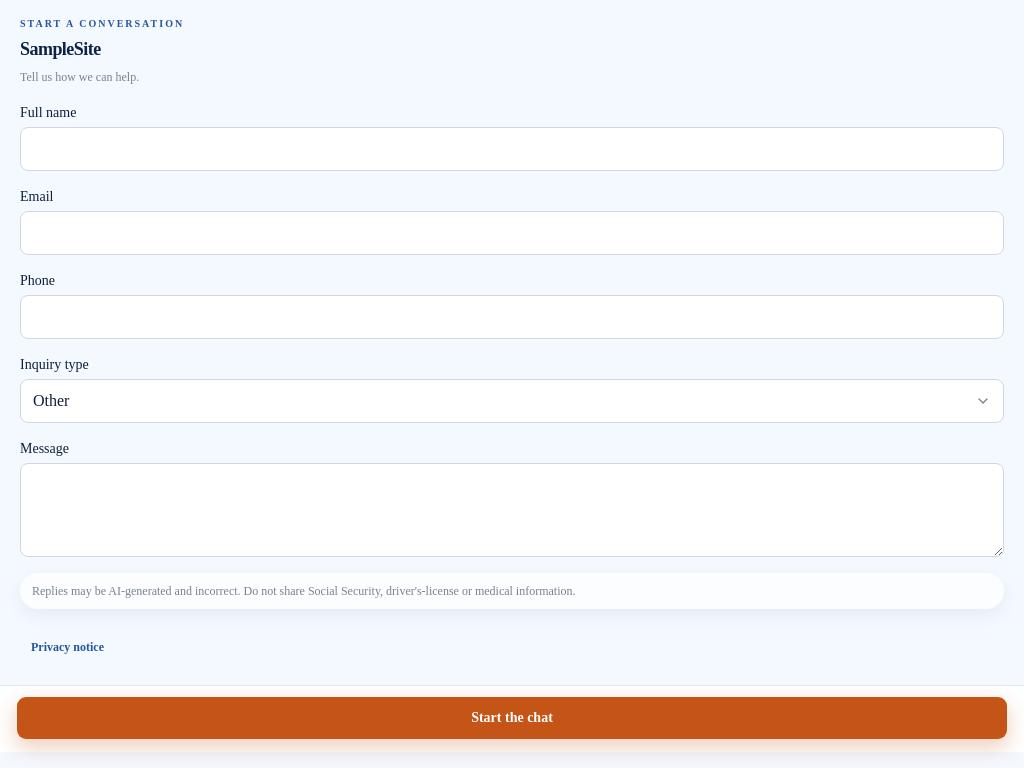
Test: pre-chat form › shows available inquiry choices when the field is opened
The width and height of the screenshot is (1024, 768).
Click the dropdown named "Inquiry type".
click(51, 400)  # box [20,379,1004,423]
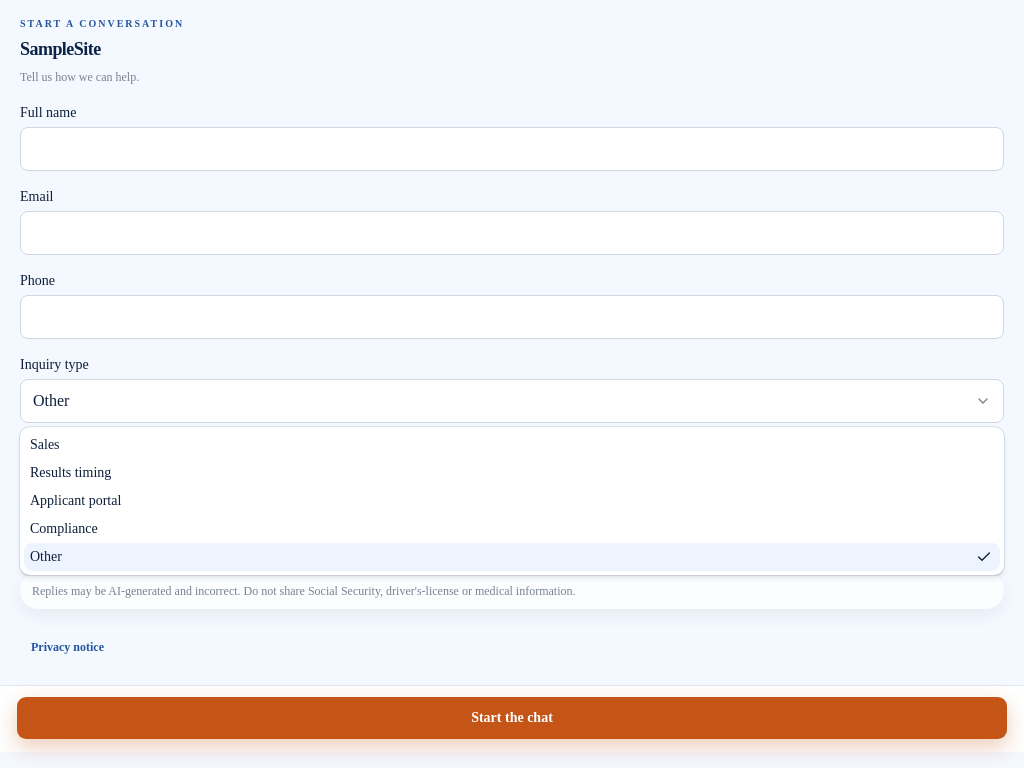
Result: the option "Results timing" is shown at [30,465,111,480]
Result: the option "Applicant portal" is shown at [30,493,121,508]
